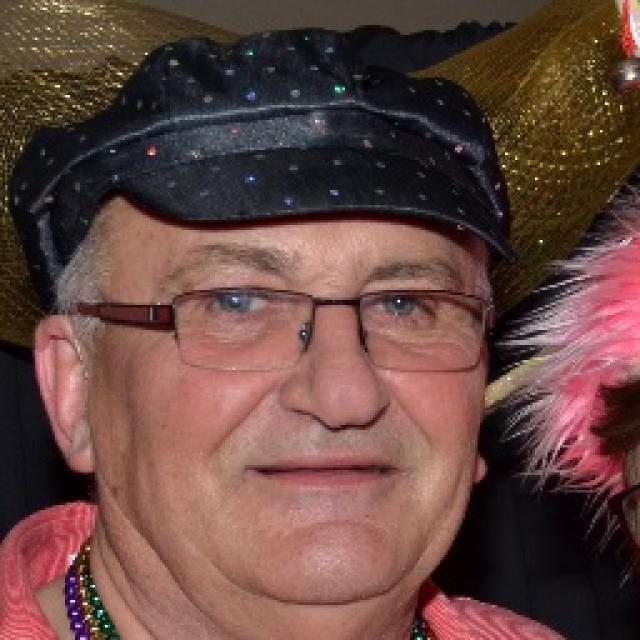earlobe: (32, 313, 104, 475)
